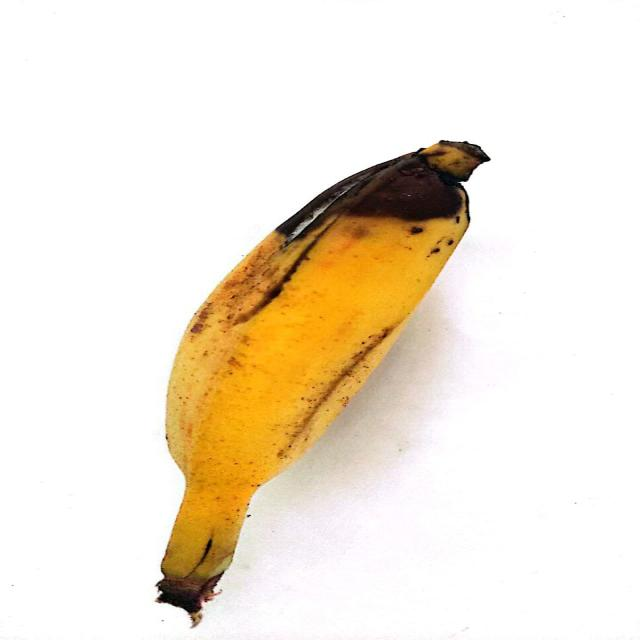rotten_banana: (171, 139, 488, 576)
